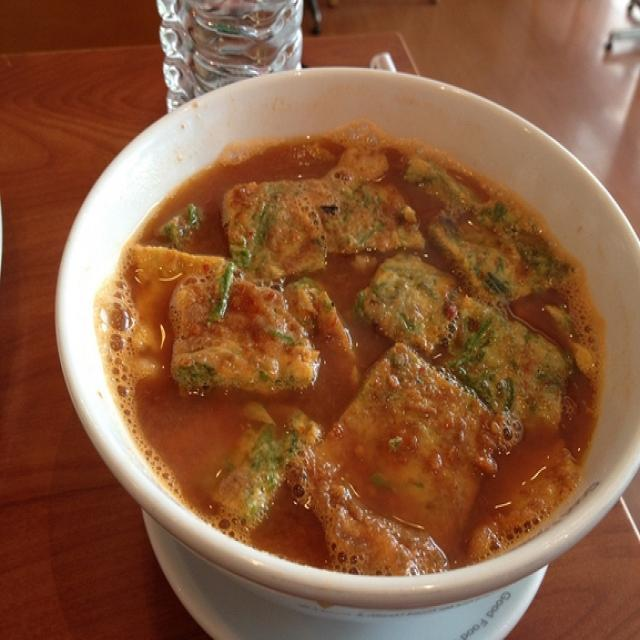汤锅炖物: (71, 71, 599, 602)
